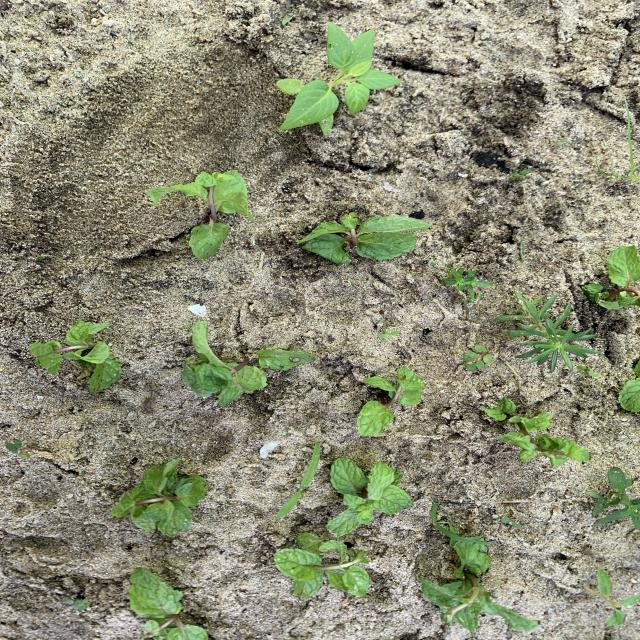crop: (182, 321, 312, 406), (421, 542, 538, 633), (150, 171, 253, 258), (482, 398, 589, 467), (110, 458, 207, 534), (300, 213, 428, 263), (328, 458, 411, 535), (30, 321, 121, 391), (274, 534, 369, 597), (129, 569, 208, 639), (358, 368, 423, 435), (584, 245, 639, 308), (620, 359, 639, 411)
weed: (277, 23, 399, 133), (495, 290, 598, 373), (586, 467, 640, 530), (583, 569, 639, 626), (278, 441, 319, 518), (430, 500, 485, 546), (442, 268, 493, 301), (463, 344, 492, 370), (5, 440, 32, 458), (501, 514, 526, 527), (509, 169, 534, 181), (66, 598, 87, 610), (378, 329, 399, 338), (578, 366, 598, 375), (551, 137, 567, 148), (282, 14, 291, 24)
